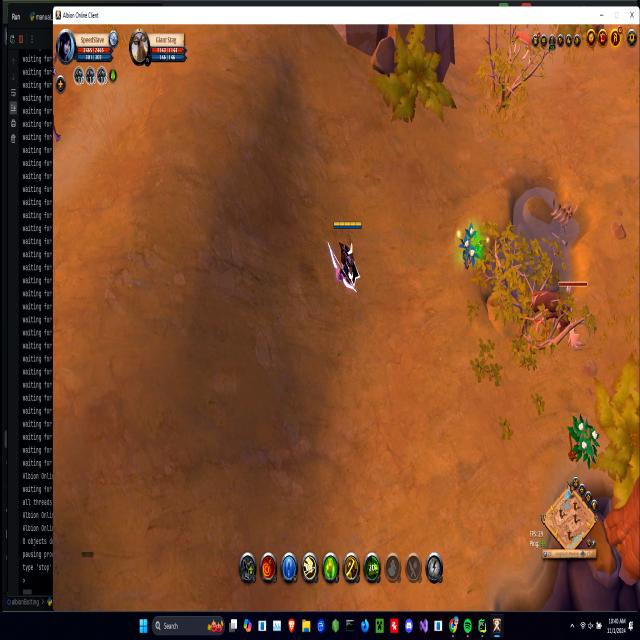hide: (569, 413, 598, 465), (459, 222, 483, 269)
ore: (525, 277, 589, 353), (510, 24, 534, 66)
red: (328, 218, 363, 296)
